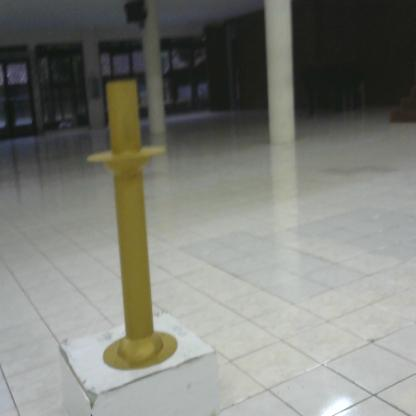pole: (79, 76, 190, 379)
